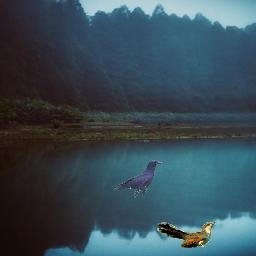Crow: (113, 160, 162, 199)
Cuckoo: (157, 222, 216, 248)
